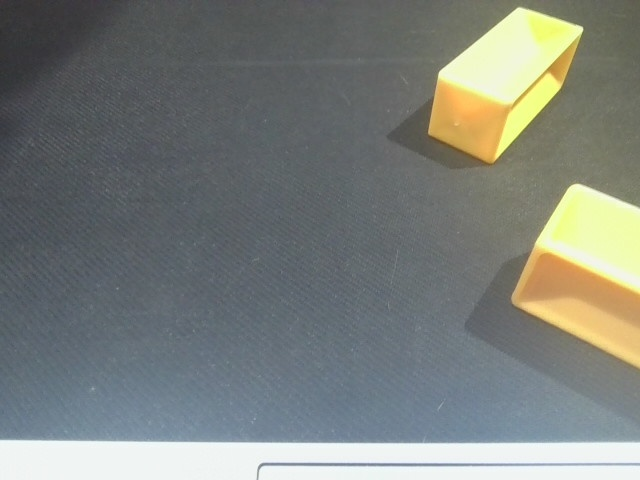YellowSample: (421, 5, 586, 166), (507, 178, 640, 371)
